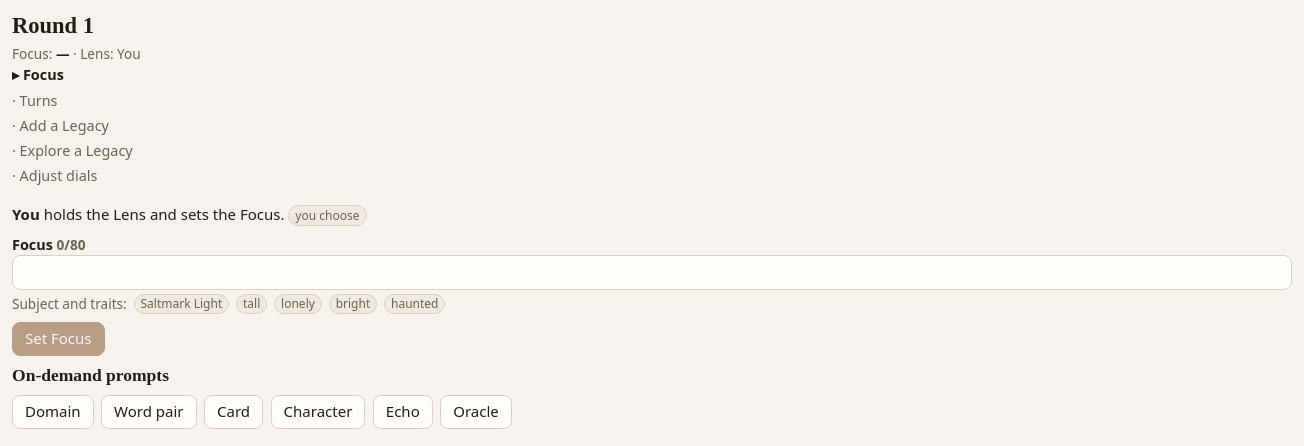
it: TurnPanel: round start and Focus › Chronicle offers the Subject and traits as Focus shortcuts
The width and height of the screenshot is (1304, 446).
Click the button "haunted": [415, 304] box [384,294,446,314]
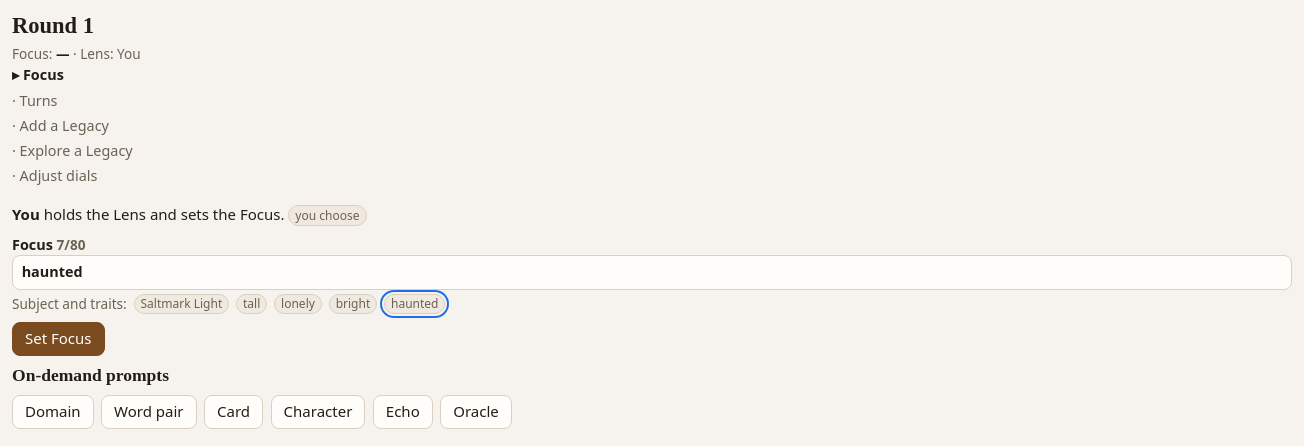
Expected: the field labelled "Focus 7/80" holds "haunted", [12,255,1292,290]
